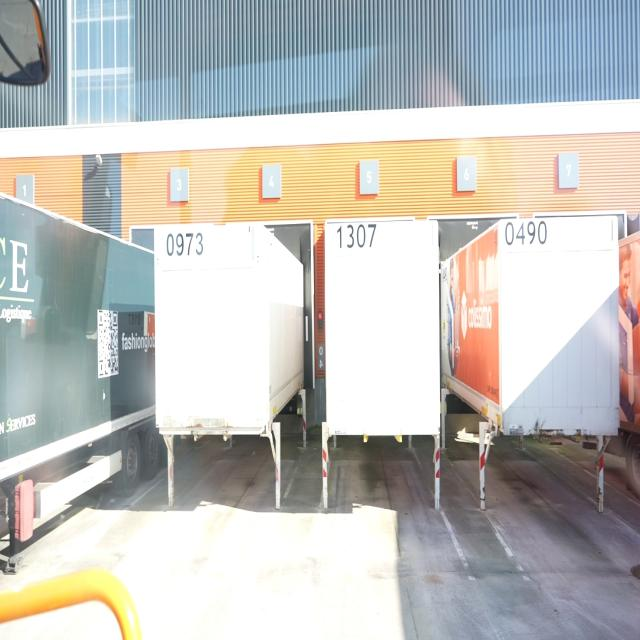Code: (332, 218, 380, 252), (163, 228, 207, 264), (500, 218, 552, 248)
